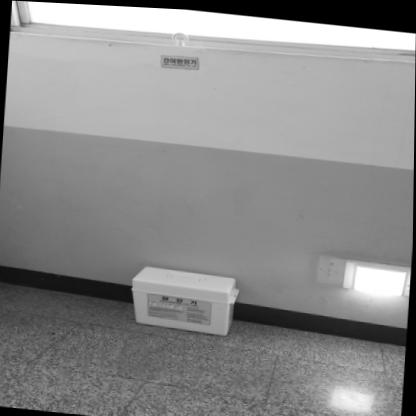DDL: (128, 261, 240, 333)
